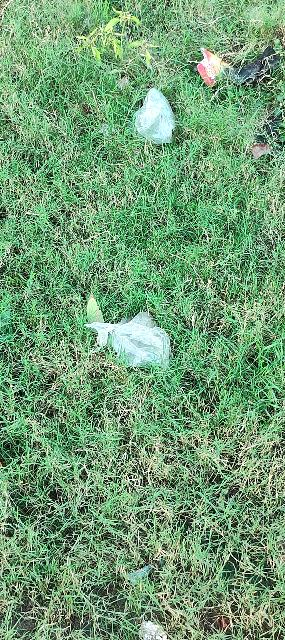polythene: (96, 294, 191, 385)
